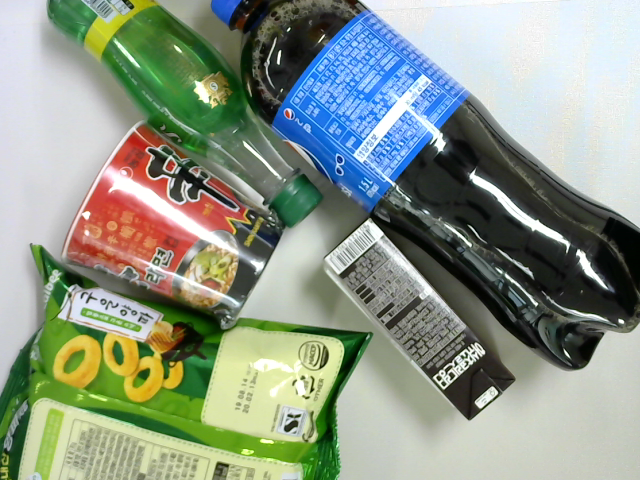Grilled_Onions: (1, 242, 375, 480)
Hush_Choco_Drink: (319, 217, 519, 422)
Pepsi_Cola_1.5L: (211, 1, 640, 372)
Seagram_Lemon_Carbonated_Water: (44, 1, 323, 228)
Sinramen_small: (61, 122, 287, 322)
